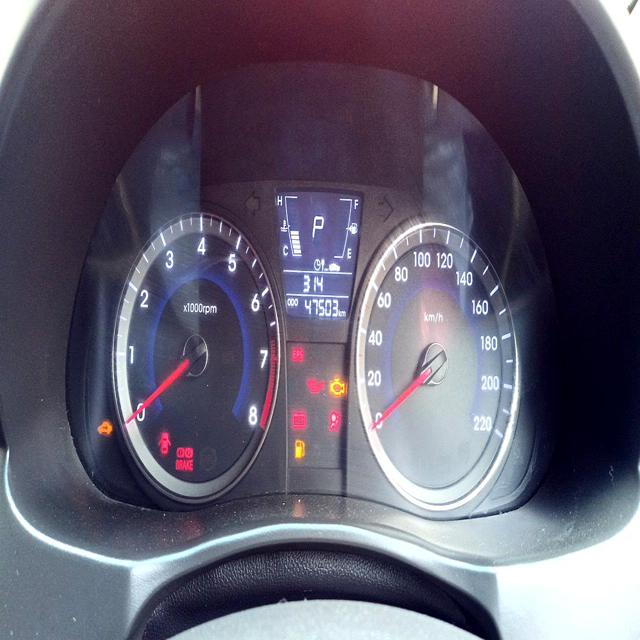odometer: (302, 296, 339, 318)
